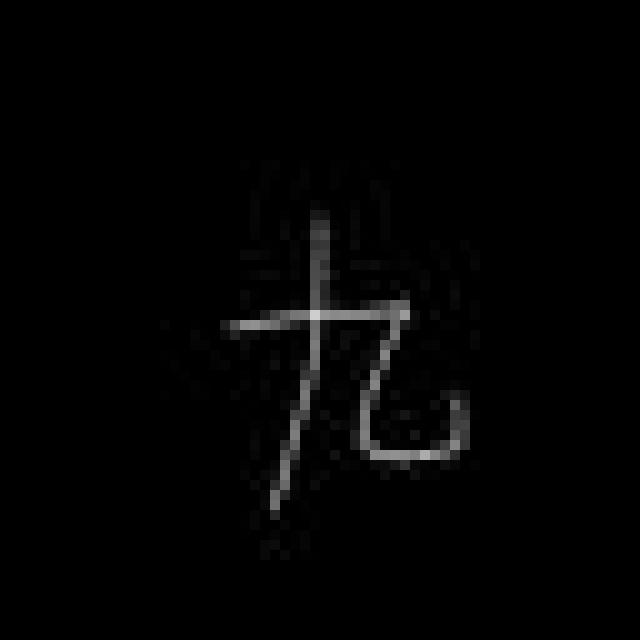9 -nine-: (230, 210, 478, 526)
